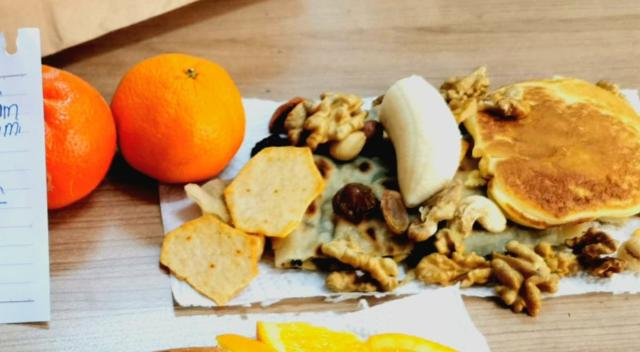Organik: (462, 78, 640, 229), (114, 53, 247, 182), (382, 74, 463, 203), (160, 218, 266, 305), (230, 145, 321, 237), (326, 238, 399, 299), (484, 253, 557, 314), (276, 98, 365, 146), (413, 238, 491, 290), (564, 232, 622, 277), (455, 196, 510, 237), (331, 181, 378, 217), (382, 189, 413, 235), (332, 130, 365, 164)
